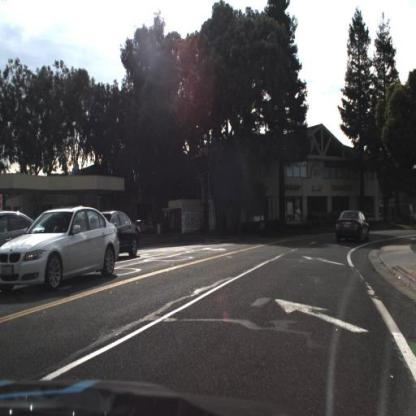car: (1, 208, 120, 293), (105, 207, 142, 258), (332, 204, 371, 246)
